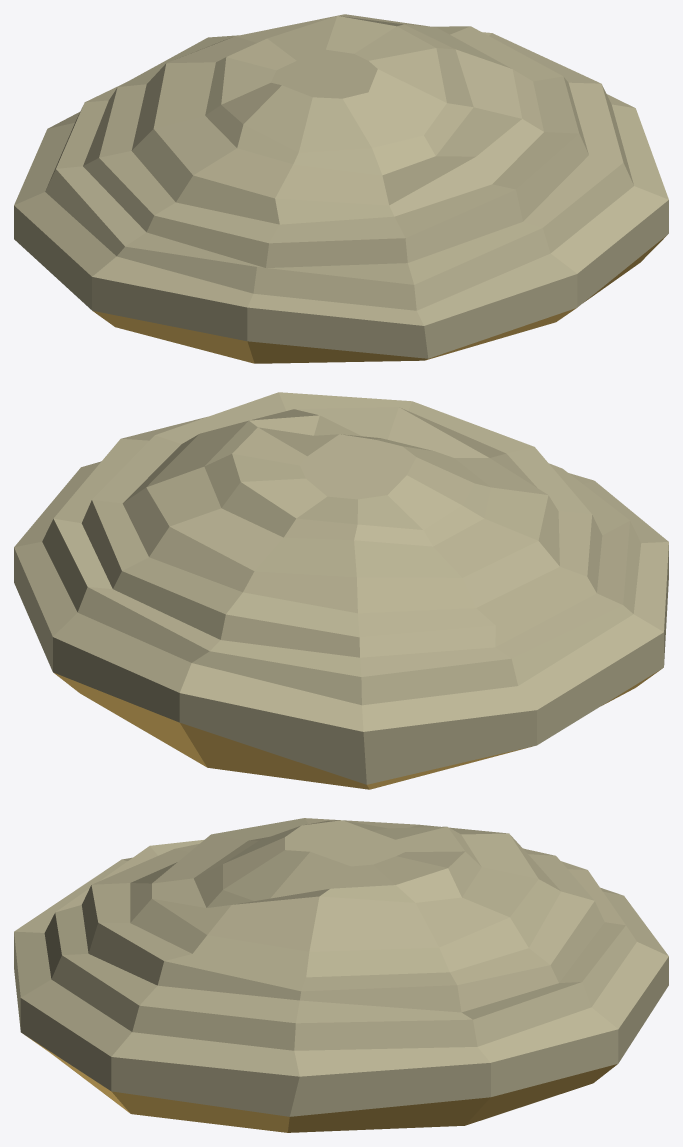
Rendered from Polypore1.fbx.
The picture shows the model from 3 angles, top to bottom: view 1: azimuth 30°, elevation 25°; view 2: azimuth 150°, elevation 25°; view 3: azimuth 270°, elevation 25°; orthographic projection. The views are drawn at different scales.
Parts seen in each view (by area): view 1: Cylinder; view 2: Cylinder; view 3: Cylinder.
Part boxes in pixels (bbox=[...]): Cylinder: bbox=[14, 14, 668, 363]; Cylinder: bbox=[14, 392, 668, 789]; Cylinder: bbox=[14, 818, 668, 1132].
Size of the model in its own units: 825 by 284 by 832.
